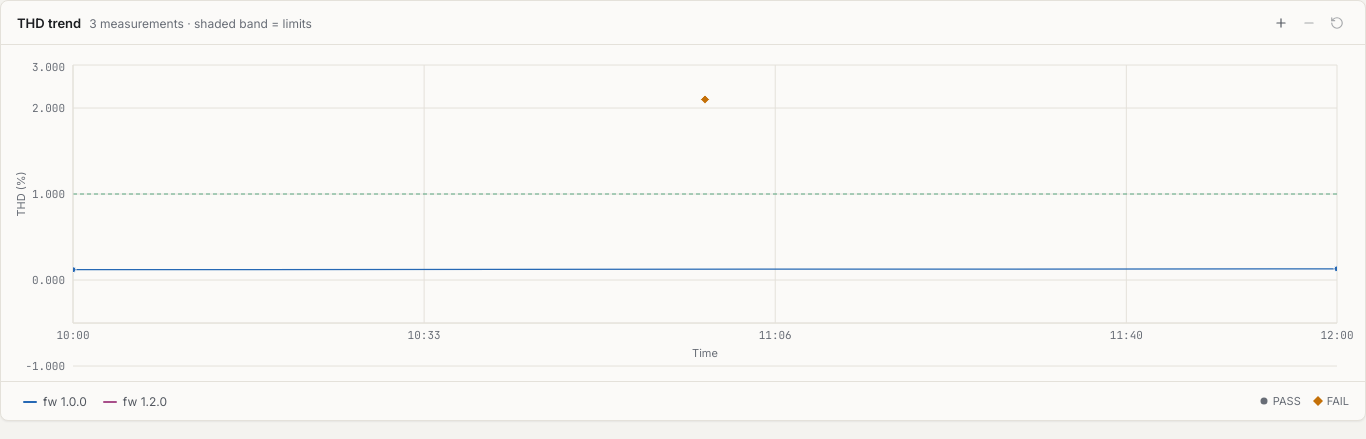
Test: TrendChart › draws one series per firmware with toggles that hide a series
Click the button "fw 1.2.0" at x=135, y=402, box [97,390,173,414]
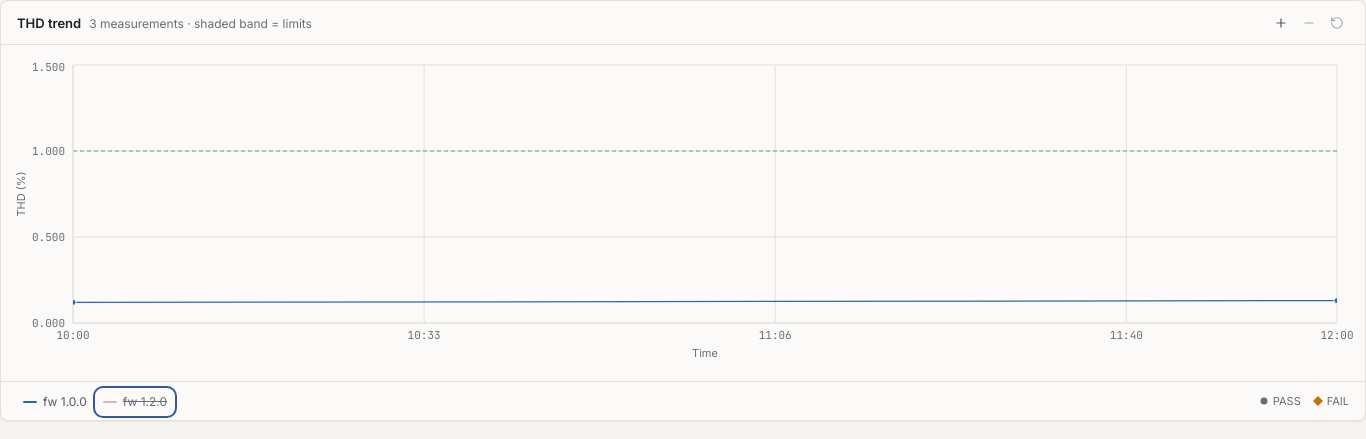
Check: the button "fw 1.2.0" is not pressed, box [97,390,173,414]
